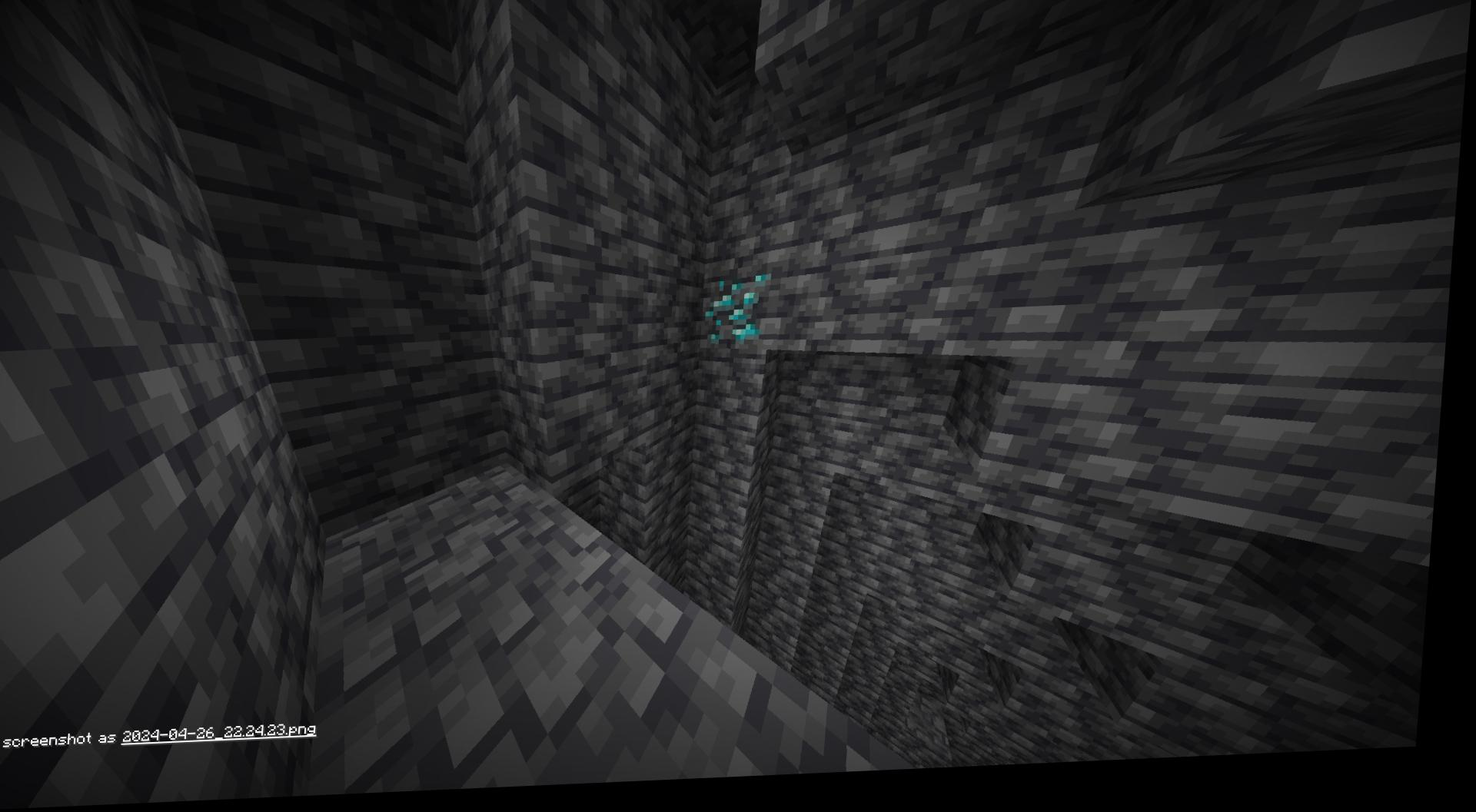diamond ore: (701, 275, 772, 354)
